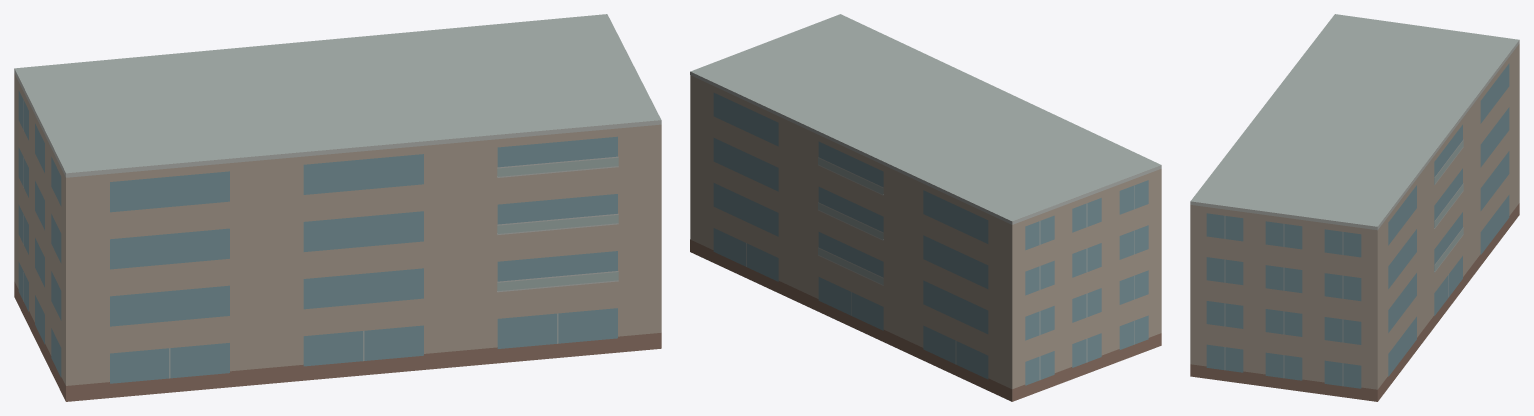
The model's file is survey-upis-33015011.glb.
The picture shows the model from 3 angles, left to right: view 1: azimuth 30°, elevation 25°; view 2: azimuth 150°, elevation 25°; view 3: azimuth 270°, elevation 25°; orthographic projection. The views are drawn at different scales.
Parts seen in each view (by area): view 1: survey-upis-33015011.tmp; view 2: survey-upis-33015011.tmp; view 3: survey-upis-33015011.tmp.
Boxes of the visible parts, bbox=[...] form: survey-upis-33015011.tmp: bbox=[14, 14, 661, 401]; survey-upis-33015011.tmp: bbox=[690, 14, 1161, 401]; survey-upis-33015011.tmp: bbox=[1190, 14, 1519, 401].
Bounding box in the file's own units: 32.59 × 12.5 × 21.31.
